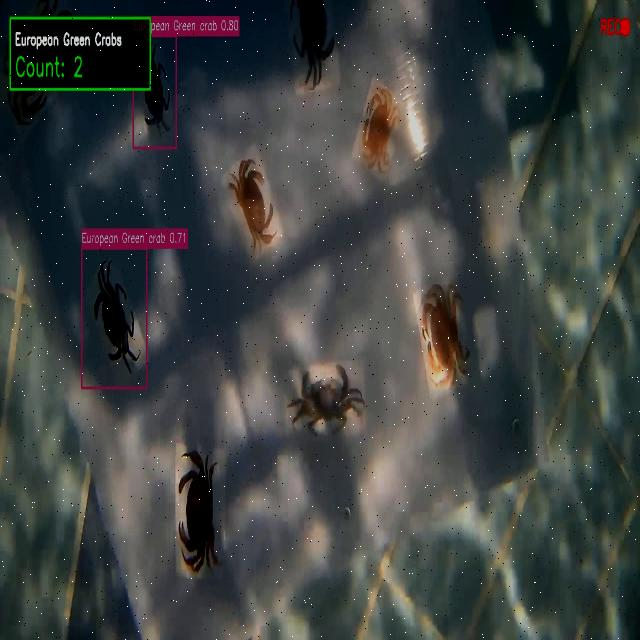European_Green_Crab: (81, 252, 150, 392), (283, 357, 368, 447), (289, 0, 344, 87), (136, 42, 177, 150)
